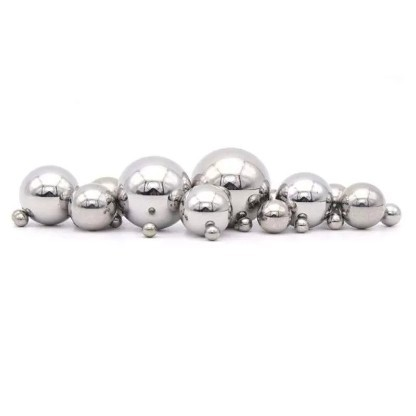ironball: (190, 146, 270, 227), (116, 154, 190, 232), (18, 164, 78, 225), (275, 171, 333, 230), (178, 183, 232, 240), (67, 182, 117, 230), (338, 182, 385, 228), (256, 198, 291, 232), (90, 175, 118, 195), (380, 202, 401, 226), (328, 182, 345, 201), (326, 210, 343, 229), (11, 209, 28, 226), (141, 222, 157, 237)
